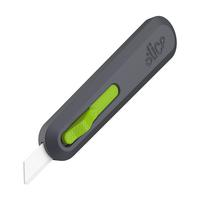knife: (21, 13, 180, 191)
